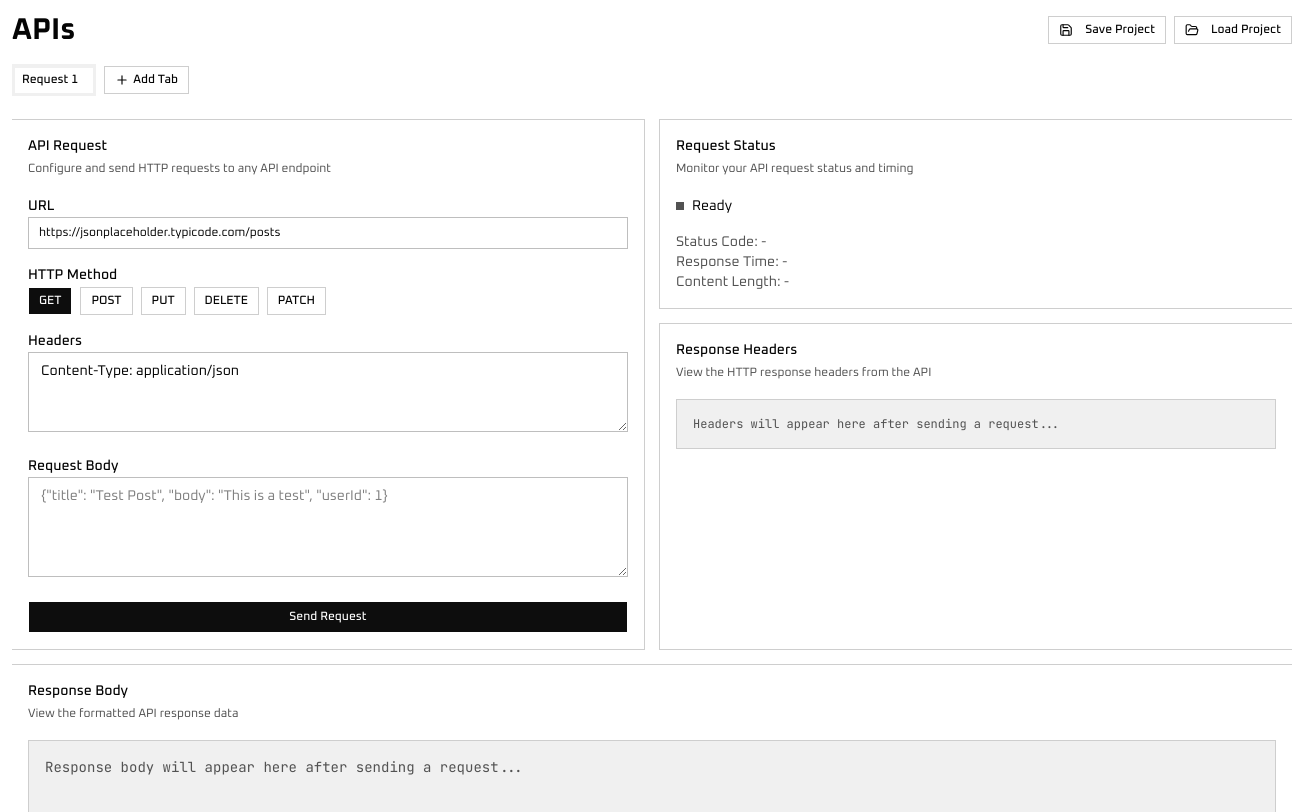
Test: BasicAPIsPage › allows adding a new tab
Check: the text "Request 1" is shown, box [22,72,78,88]
Check: the text "Request 2" is not shown
Click Add Tab button
Click the button "Add Tab": (147, 80) [104,66,189,94]
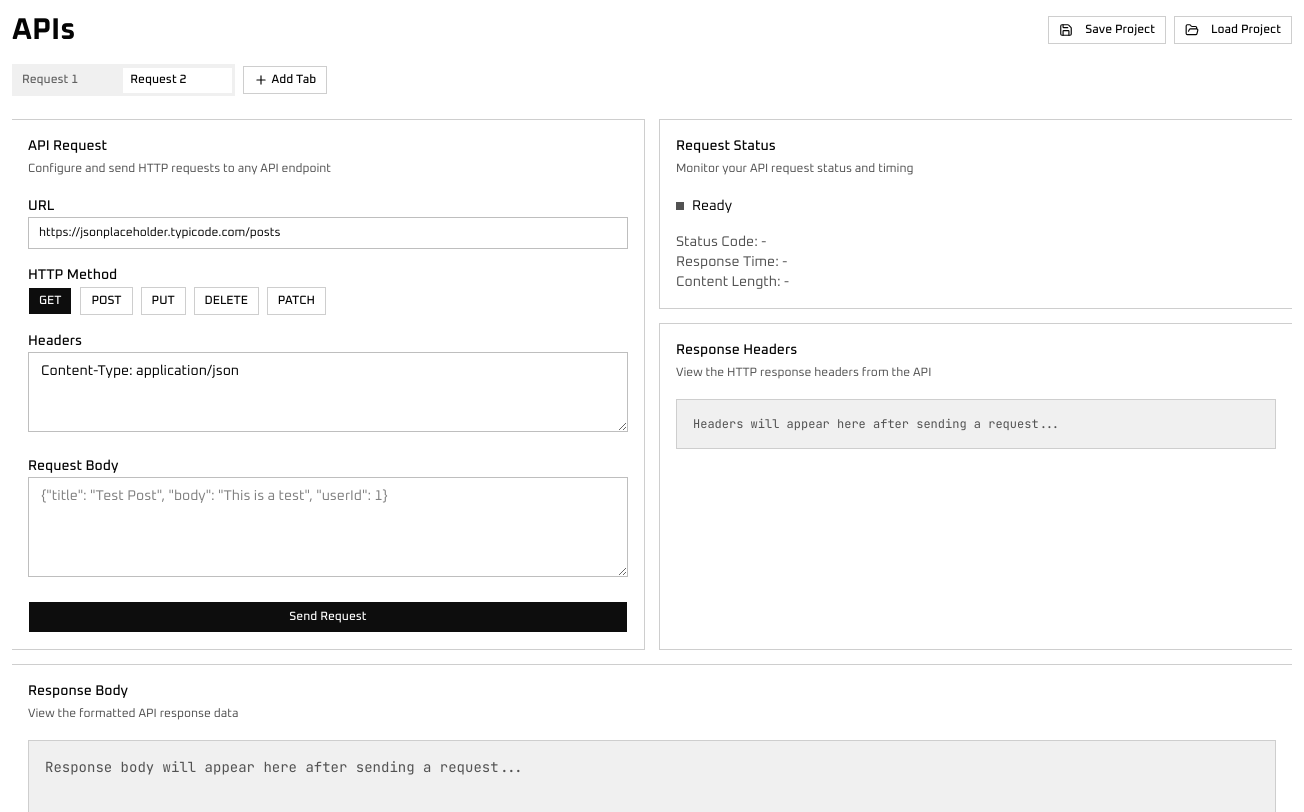
Check: the text "Request 1" is shown, box [22,72,78,88]
Check: the text "Request 2" is shown, box [130,72,187,88]
